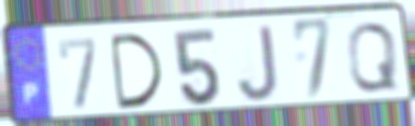5: (170, 25, 223, 108)
7: (289, 15, 334, 106), (54, 34, 100, 113)
D: (107, 31, 167, 112)
J: (235, 22, 281, 105)
Q: (345, 20, 401, 94)
